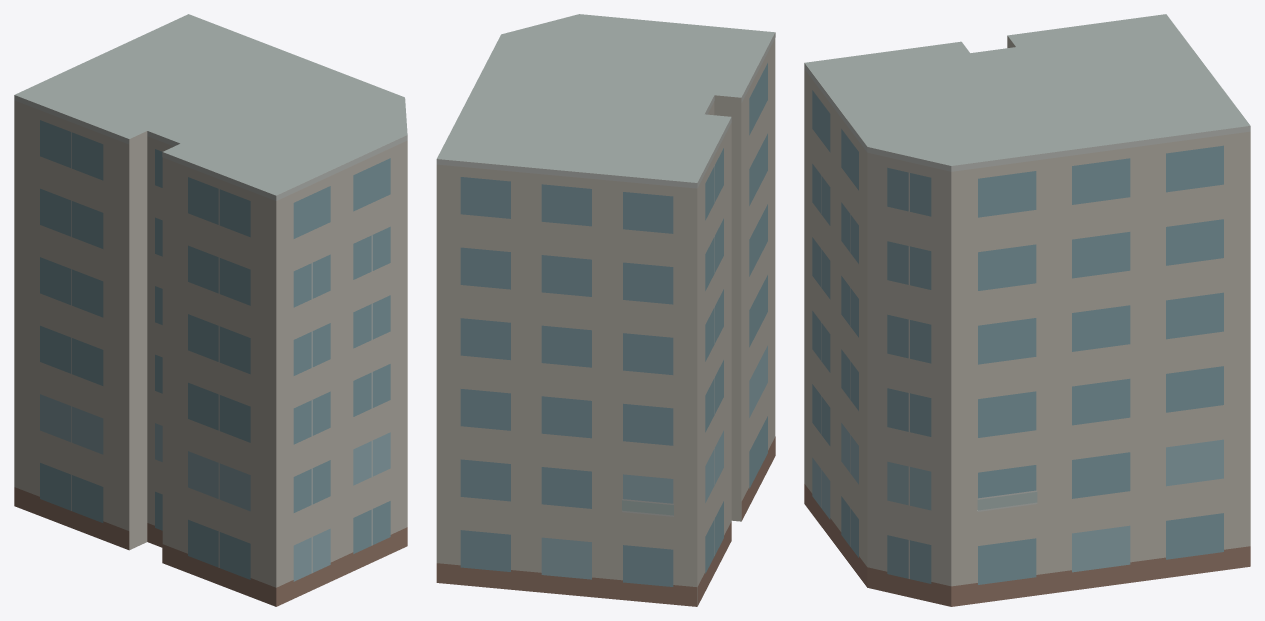
The model's file is survey-upis-32625831.glb.
3 renders of one model, left to right at view 1: azimuth 30°, elevation 25°; view 2: azimuth 150°, elevation 25°; view 3: azimuth 270°, elevation 25°, orthographic. The views are drawn at different scales.
Visible parts, largest first — view 1: survey-upis-32625831.tmp; view 2: survey-upis-32625831.tmp; view 3: survey-upis-32625831.tmp.
Boxes of the visible parts, x1,y1,x2,y2 form: survey-upis-32625831.tmp: [14, 14, 407, 606]; survey-upis-32625831.tmp: [436, 14, 775, 606]; survey-upis-32625831.tmp: [804, 14, 1250, 606].
Bounding box in the file's own units: 13.77 × 18.6 × 17.08.
